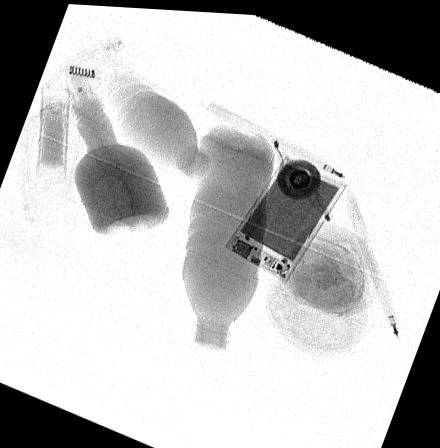Powerbank: (222, 153, 347, 276)
